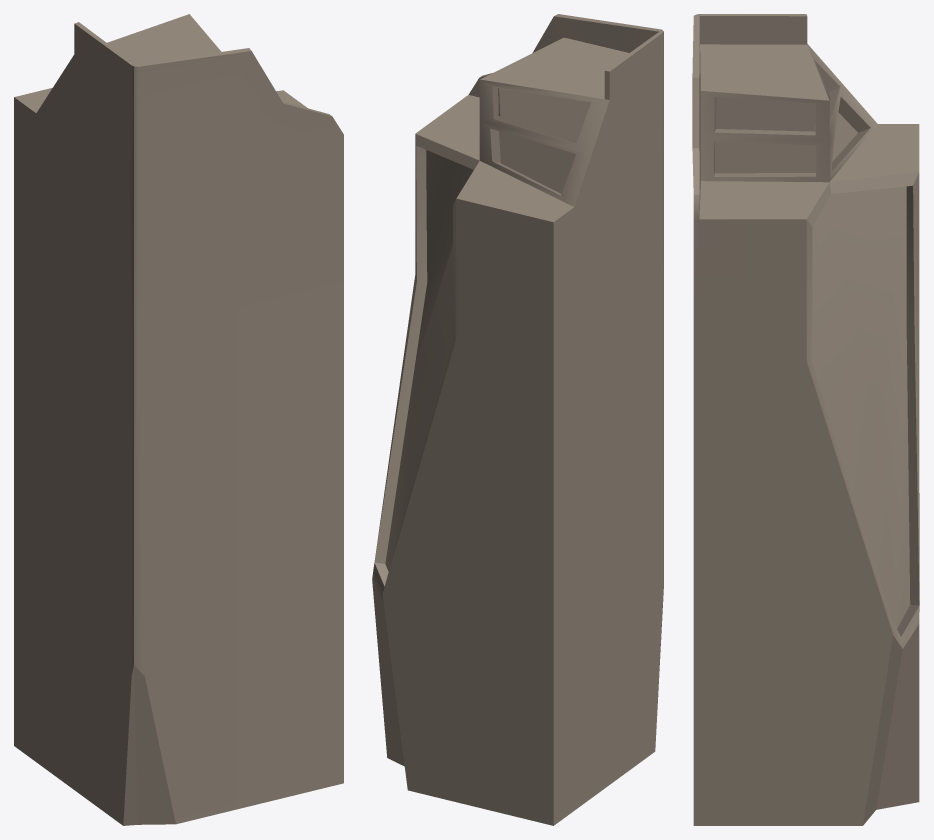
The model's file is building1.fbx.
The picture shows the model from 3 angles, left to right: view 1: azimuth 30°, elevation 25°; view 2: azimuth 150°, elevation 25°; view 3: azimuth 270°, elevation 25°; orthographic projection. The views are drawn at different scales.
Parts seen in each view (by area): view 1: building; view 2: building; view 3: building.
Part boxes in pixels (<box>): building: <box>14,14,343,825</box>; building: <box>372,14,663,825</box>; building: <box>692,14,919,825</box>.
Bounding box in the file's own units: 2120 × 7427 × 2134.
